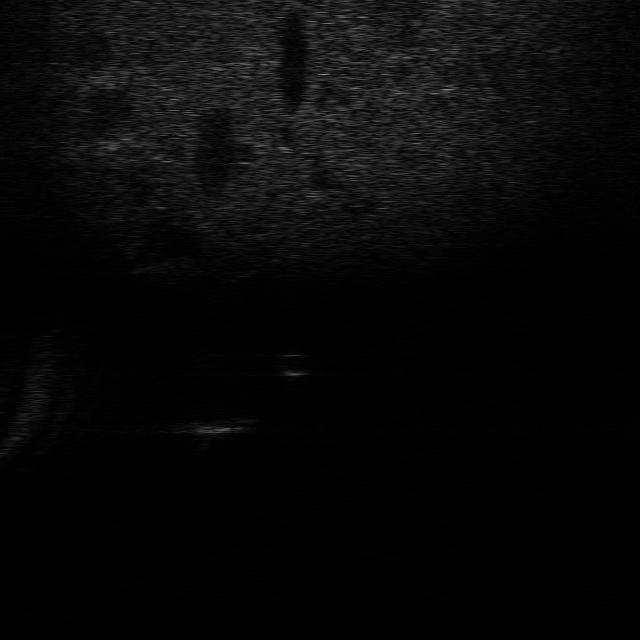ball: (274, 348, 316, 378)
square cage: (178, 410, 264, 455)
